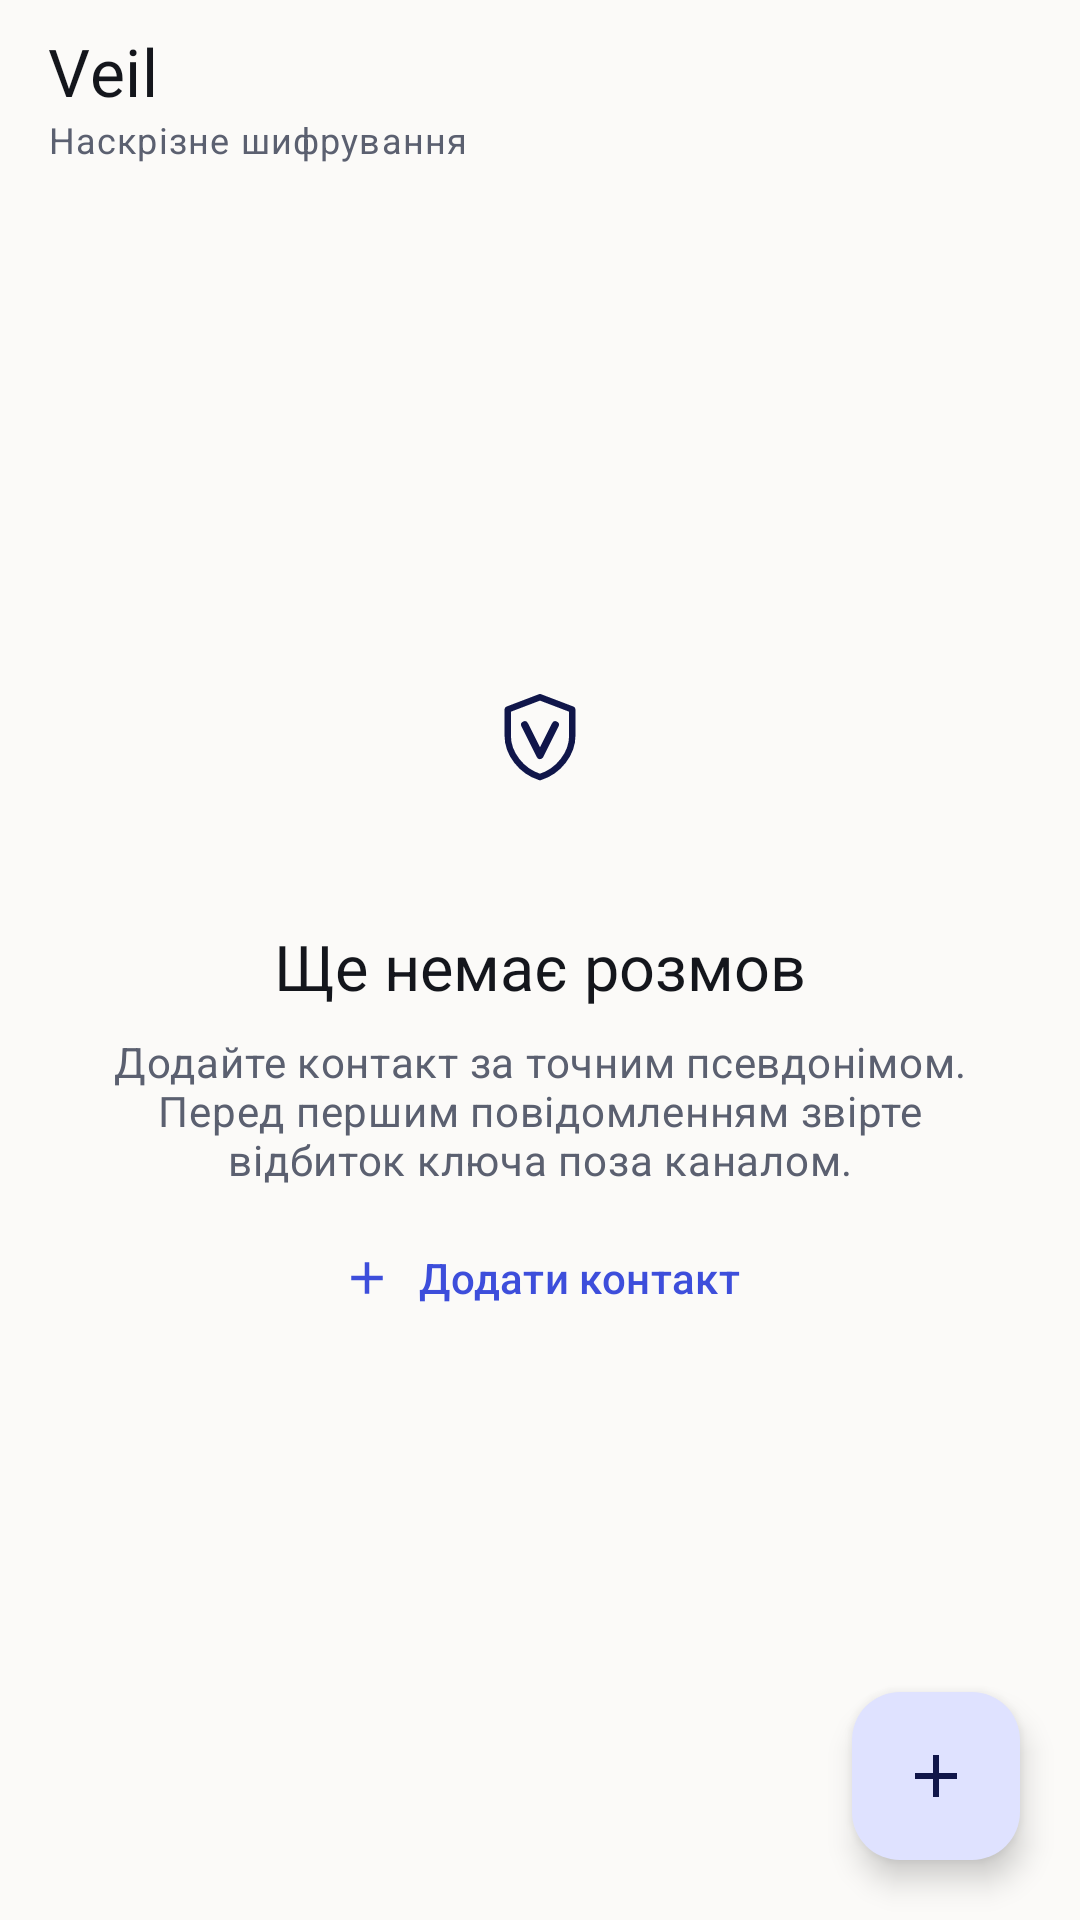

Named icons in this screenshot (1080px x 1920px) and their bounding boxes, (x1, y1, x2, y2):
Додати контакт: (852, 1692, 1020, 1860)
